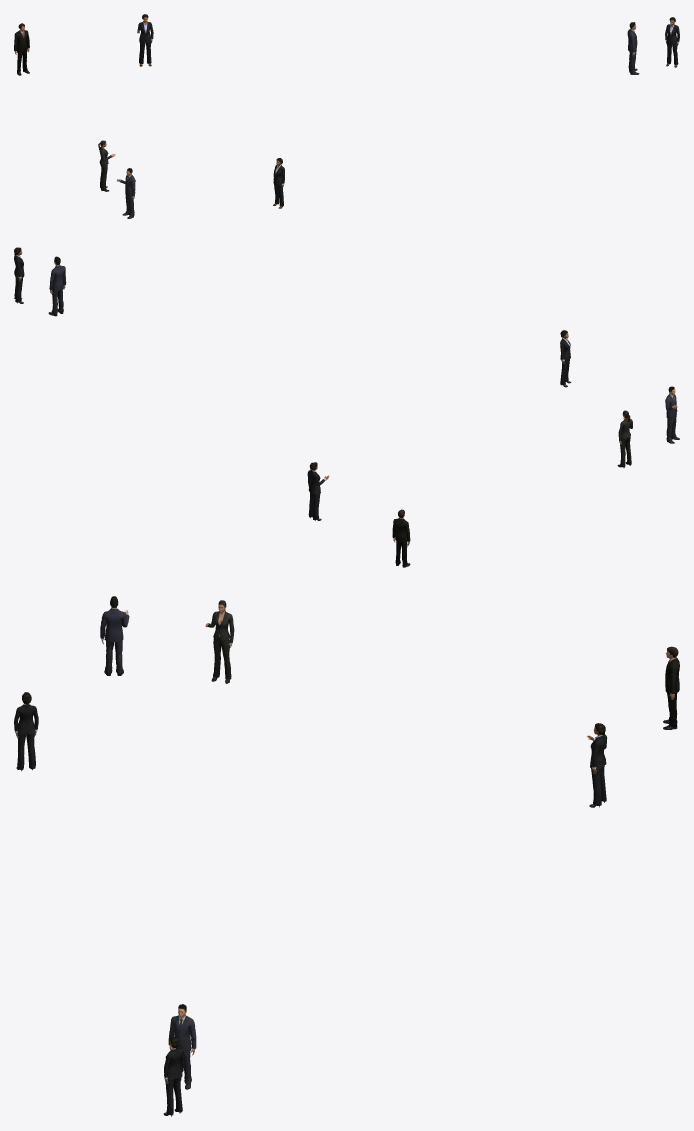
The model's file is grand-anamorphic-shape-v3-visitors.glb.
3 renders of one model, top to bottom at view 1: azimuth 30°, elevation 25°; view 2: azimuth 150°, elevation 25°; view 3: azimuth 270°, elevation 25°, orthographic. The views are drawn at different scales.
Parts seen in each view (by area): view 1: grand-anamorphic-shape-v3-visitors | visitors | Rocketbox |  (×4); view 2: grand-anamorphic-shape-v3-visitors | visitors | Rocketbox |  (×4); view 3: grand-anamorphic-shape-v3-visitors | visitors | Rocketbox |  (×4).
Boxes of the visible parts, box(x1,y1,x2,y2) form: grand-anamorphic-shape-v3-visitors | visitors | Rocketbox |  (×4): box(14, 14, 679, 218); grand-anamorphic-shape-v3-visitors | visitors | Rocketbox |  (×4): box(14, 247, 679, 567); grand-anamorphic-shape-v3-visitors | visitors | Rocketbox |  (×4): box(14, 596, 679, 1116).
Bounding box in the file's own units: 21.89 × 1.83 × 13.65.
12 materials, 12 textured.
